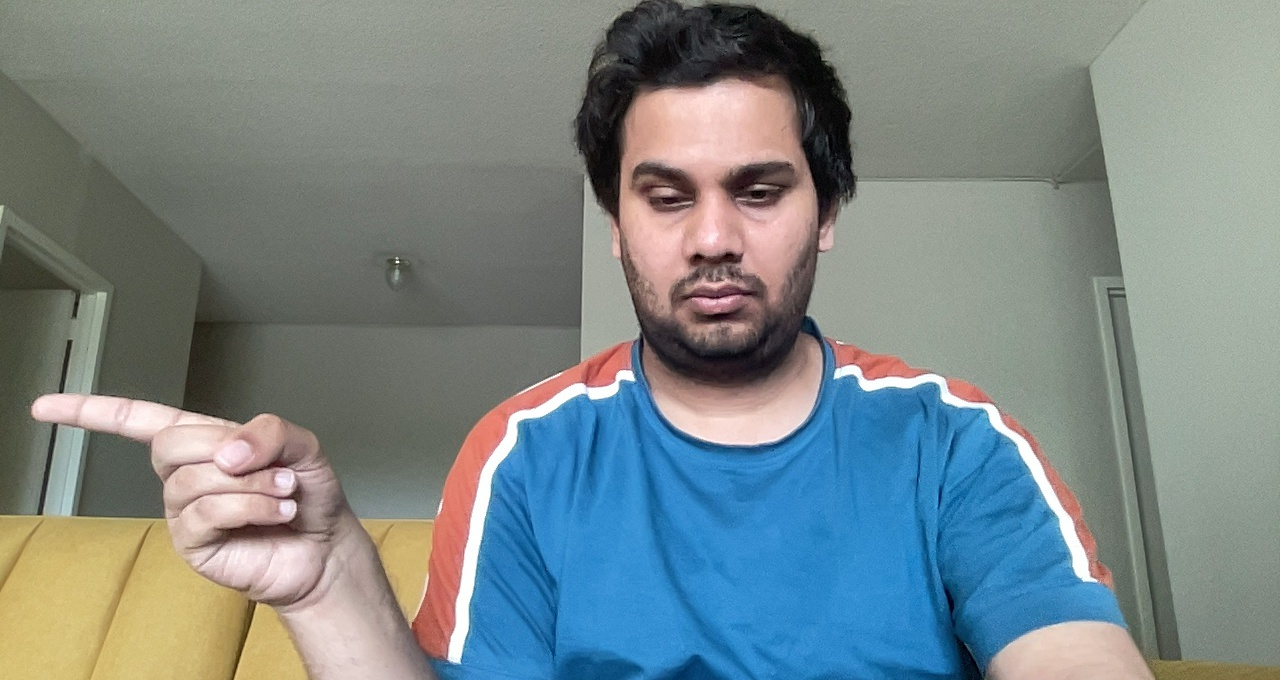fingerright: (27, 378, 343, 606)
